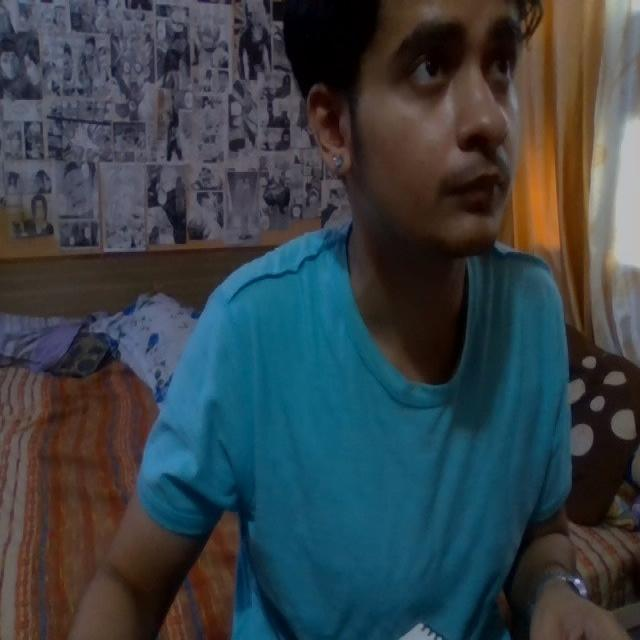idle: (139, 0, 632, 640)
